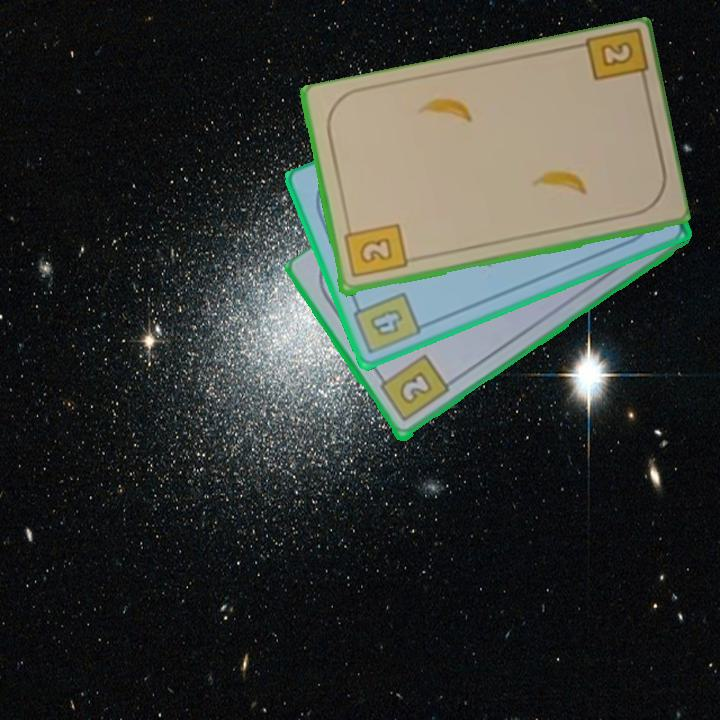2b: (374, 352, 452, 425), (579, 28, 650, 93), (340, 220, 409, 281)
4b: (349, 289, 424, 358)
